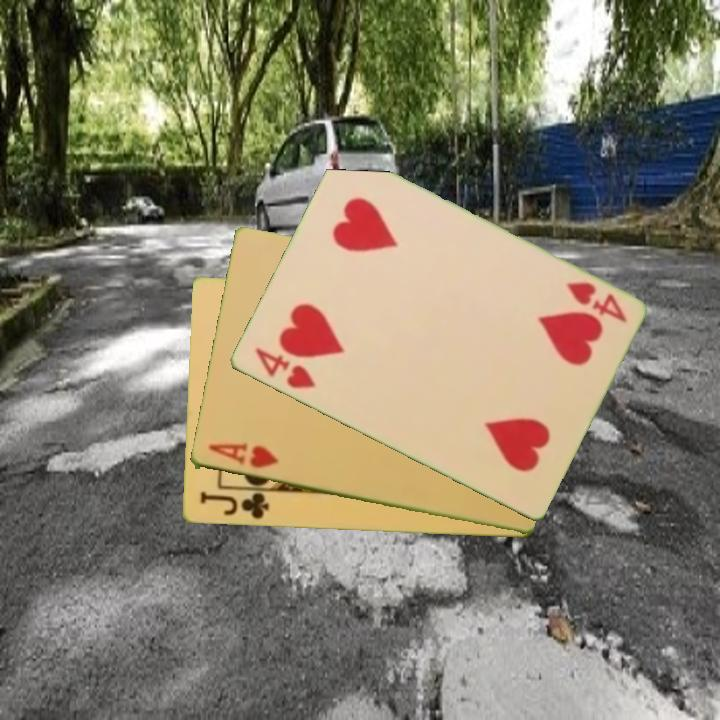4h: (562, 278, 630, 326), (251, 344, 318, 392)
Ah: (204, 440, 281, 472)
Jc: (196, 489, 271, 522)
